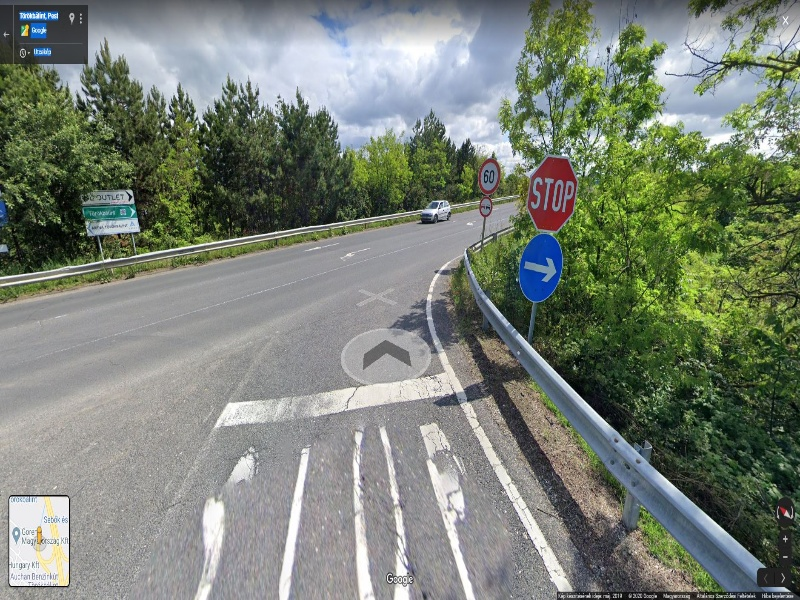stop: (526, 155, 578, 234)
